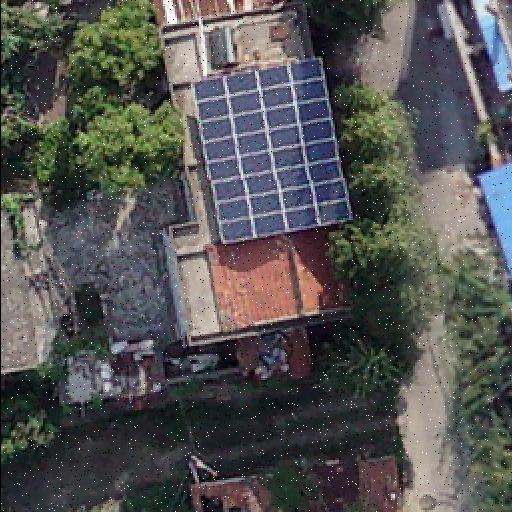solar-panel: (192, 58, 348, 242)
